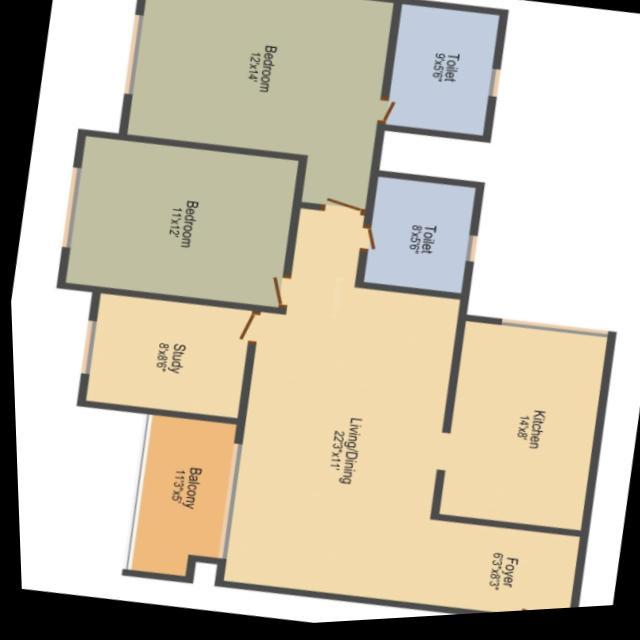Balcony-Sitout: (126, 416, 230, 560)
Bedroom: (61, 136, 296, 310)
Bedroom with Toilet: (121, 0, 502, 216)
Enterance-Foyer: (474, 533, 574, 619)
Kitchen: (433, 325, 602, 537)
Living: (211, 308, 460, 613)
Toilet: (383, 9, 497, 141), (360, 181, 472, 298)
